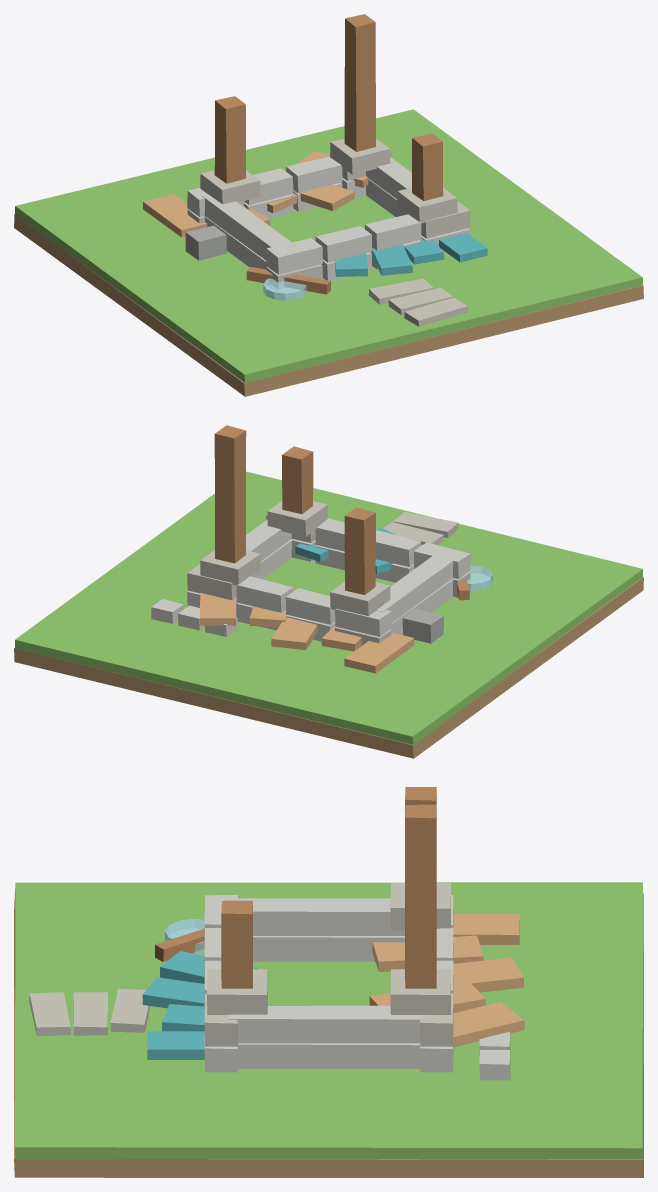
File: tower_l03_ruined_LOD2.glb
3 renders of one model, top to bottom at view 1: azimuth 30°, elevation 25°; view 2: azimuth 150°, elevation 25°; view 3: azimuth 270°, elevation 25°, orthographic. The views are drawn at different scales.
Parts seen in each view (by area): view 1: tower_l03_grass_tile_tower_l03_ruined_LOD2_tmp, tower_l03_earth_tile_tower_l03_ruined_LOD2_tmp, snapped_upright_0.58_0.52_tower_l03_ruined_LOD2_tmp, snapped_upright_-0.58_0.52_tower_l03_ruined_LOD2_tmp, ruin_stone_return_1_-0.72_tower_l03_ruined_LOD2_tmp, snapped_upright_0.58_-0.52_tower_l03_ruined_LOD2_tmp, ruin_stone_course_1_-1_0_tower_l03_ruined_LOD2_tmp, ruin_stone_course_1_-1_1_tower_l03_ruined_LOD2_tmp, ruin_stone_course_1_-1_2_tower_l03_ruined_LOD2_tmp, ruin_stone_course_1_1_2_tower_l03_ruined_LOD2_tmp, collapsed_deck_0_tower_l03_ruined_LOD2_tmp, foot_remnant_0.58_0.52_tower_l03_ruined_LOD2_tmp (+19 smaller); view 2: tower_l03_grass_tile_tower_l03_ruined_LOD2_tmp, tower_l03_earth_tile_tower_l03_ruined_LOD2_tmp, snapped_upright_0.58_0.52_tower_l03_ruined_LOD2_tmp, snapped_upright_-0.58_0.52_tower_l03_ruined_LOD2_tmp, ruin_stone_return_1_-0.72_tower_l03_ruined_LOD2_tmp, snapped_upright_0.58_-0.52_tower_l03_ruined_LOD2_tmp, collapsed_deck_0_tower_l03_ruined_LOD2_tmp, ruin_stone_course_1_1_2_tower_l03_ruined_LOD2_tmp, foot_remnant_0.58_-0.52_tower_l03_ruined_LOD2_tmp, foot_remnant_0.58_0.52_tower_l03_ruined_LOD2_tmp, foot_remnant_-0.58_0.52_tower_l03_ruined_LOD2_tmp, ruin_stone_course_1_1_1_tower_l03_ruined_LOD2_tmp (+17 smaller); view 3: tower_l03_grass_tile_tower_l03_ruined_LOD2_tmp, tower_l03_earth_tile_tower_l03_ruined_LOD2_tmp, ruin_stone_return_1_0.72_tower_l03_ruined_LOD2_tmp, snapped_upright_0.58_0.52_tower_l03_ruined_LOD2_tmp, ruin_stone_return_1_-0.72_tower_l03_ruined_LOD2_tmp, ruin_stone_return_0_0.72_tower_l03_ruined_LOD2_tmp, ruin_stone_return_0_-0.72_tower_l03_ruined_LOD2_tmp, snapped_upright_0.58_-0.52_tower_l03_ruined_LOD2_tmp, foot_remnant_0.58_0.52_tower_l03_ruined_LOD2_tmp, foot_remnant_0.58_-0.52_tower_l03_ruined_LOD2_tmp, collapsed_deck_4_tower_l03_ruined_LOD2_tmp, collapsed_deck_2_tower_l03_ruined_LOD2_tmp (+22 smaller).
Boxes of the visible parts, bbox=[...] form: tower_l03_grass_tile_tower_l03_ruined_LOD2_tmp: bbox=[15, 109, 642, 382]; tower_l03_earth_tile_tower_l03_ruined_LOD2_tmp: bbox=[14, 214, 643, 396]; snapped_upright_0.58_0.52_tower_l03_ruined_LOD2_tmp: bbox=[344, 14, 375, 151]; snapped_upright_-0.58_0.52_tower_l03_ruined_LOD2_tmp: bbox=[214, 96, 245, 183]; ruin_stone_return_1_-0.72_tower_l03_ruined_LOD2_tmp: bbox=[201, 194, 294, 260]; snapped_upright_0.58_-0.52_tower_l03_ruined_LOD2_tmp: bbox=[412, 133, 443, 201]; ruin_stone_course_1_-1_0_tower_l03_ruined_LOD2_tmp: bbox=[266, 238, 322, 274]; ruin_stone_course_1_-1_1_tower_l03_ruined_LOD2_tmp: bbox=[315, 226, 372, 262]; ruin_stone_course_1_-1_2_tower_l03_ruined_LOD2_tmp: bbox=[365, 214, 421, 250]; ruin_stone_course_1_1_2_tower_l03_ruined_LOD2_tmp: bbox=[286, 156, 342, 192]; collapsed_deck_0_tower_l03_ruined_LOD2_tmp: bbox=[143, 194, 207, 237]; foot_remnant_0.58_0.52_tower_l03_ruined_LOD2_tmp: bbox=[330, 138, 390, 174]; tower_l03_grass_tile_tower_l03_ruined_LOD2_tmp: bbox=[15, 471, 642, 745]; tower_l03_earth_tile_tower_l03_ruined_LOD2_tmp: bbox=[14, 577, 643, 758]; snapped_upright_0.58_0.52_tower_l03_ruined_LOD2_tmp: bbox=[214, 425, 246, 563]; snapped_upright_-0.58_0.52_tower_l03_ruined_LOD2_tmp: bbox=[344, 507, 375, 594]; ruin_stone_return_1_-0.72_tower_l03_ruined_LOD2_tmp: bbox=[376, 553, 453, 622]; snapped_upright_0.58_-0.52_tower_l03_ruined_LOD2_tmp: bbox=[282, 446, 313, 513]; collapsed_deck_0_tower_l03_ruined_LOD2_tmp: bbox=[344, 632, 414, 673]; ruin_stone_course_1_1_2_tower_l03_ruined_LOD2_tmp: bbox=[236, 576, 293, 612]; foot_remnant_0.58_-0.52_tower_l03_ruined_LOD2_tmp: bbox=[267, 501, 327, 536]; foot_remnant_0.58_0.52_tower_l03_ruined_LOD2_tmp: bbox=[200, 550, 260, 585]; foot_remnant_-0.58_0.52_tower_l03_ruined_LOD2_tmp: bbox=[330, 581, 390, 615]; ruin_stone_course_1_1_1_tower_l03_ruined_LOD2_tmp: bbox=[285, 588, 335, 624]; tower_l03_grass_tile_tower_l03_ruined_LOD2_tmp: bbox=[15, 882, 642, 1159]; tower_l03_earth_tile_tower_l03_ruined_LOD2_tmp: bbox=[14, 893, 643, 1177]; ruin_stone_return_1_0.72_tower_l03_ruined_LOD2_tmp: bbox=[228, 1005, 429, 1043]; snapped_upright_0.58_0.52_tower_l03_ruined_LOD2_tmp: bbox=[405, 804, 436, 988]; ruin_stone_return_1_-0.72_tower_l03_ruined_LOD2_tmp: bbox=[235, 898, 404, 935]; ruin_stone_return_0_0.72_tower_l03_ruined_LOD2_tmp: bbox=[237, 1043, 420, 1068]; ruin_stone_return_0_-0.72_tower_l03_ruined_LOD2_tmp: bbox=[253, 936, 404, 961]; snapped_upright_0.58_-0.52_tower_l03_ruined_LOD2_tmp: bbox=[221, 900, 252, 988]; foot_remnant_0.58_0.52_tower_l03_ruined_LOD2_tmp: bbox=[390, 969, 450, 1014]; foot_remnant_0.58_-0.52_tower_l03_ruined_LOD2_tmp: bbox=[207, 969, 267, 1014]; collapsed_deck_4_tower_l03_ruined_LOD2_tmp: bbox=[453, 1002, 524, 1047]; collapsed_deck_2_tower_l03_ruined_LOD2_tmp: bbox=[453, 957, 523, 992].
Bounding box in the file's own units: 3.57 × 1.73 × 3.57.
